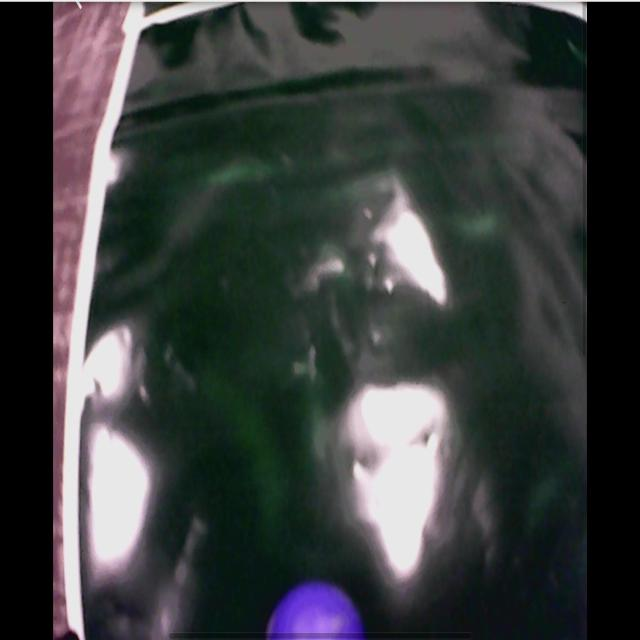ball: (267, 583, 361, 640)
